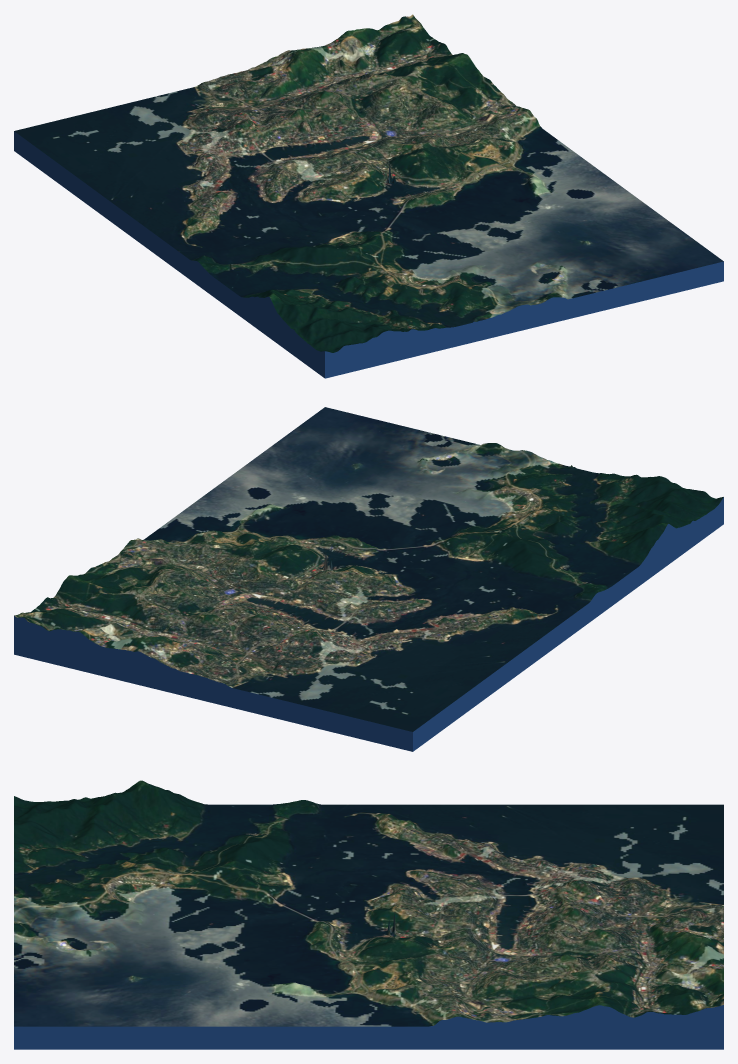
File: vladivostok.glb
3 views of the same model, one above another, from view 1: azimuth 30°, elevation 25°; view 2: azimuth 150°, elevation 25°; view 3: azimuth 270°, elevation 25° (orthographic). The views are drawn at different scales.
Parts seen in each view (by area): view 1: vladivostok; view 2: vladivostok; view 3: vladivostok.
Boxes of the visible parts, x1,y1,x2,y2 form: vladivostok: (14, 14, 723, 378); vladivostok: (14, 407, 723, 751); vladivostok: (14, 780, 723, 1049).
Bounding box in the file's own units: 0.42 × 0.0418 × 0.5673.
Materials: 2 (1 with a texture image).
